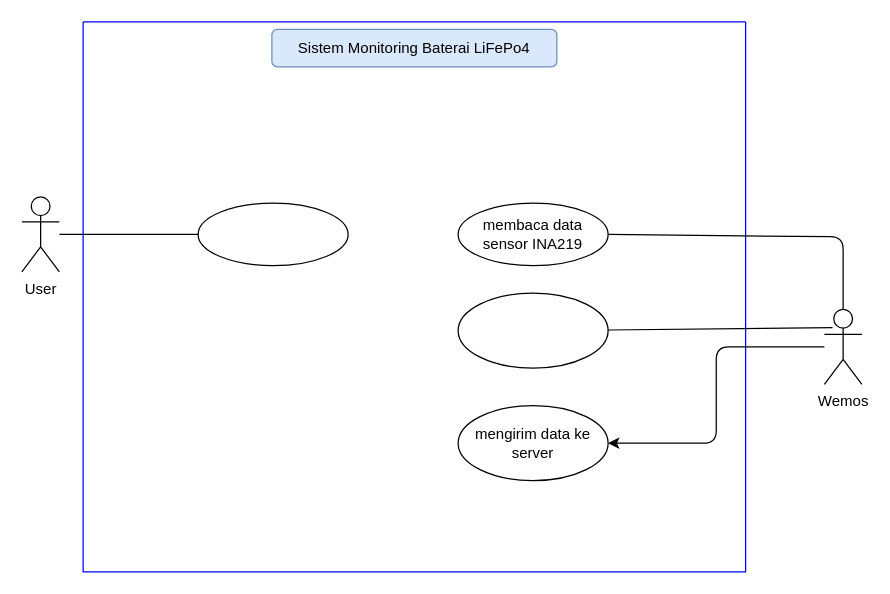
Image size: 890x594. Some labels were removed from this diagram. Each missing label, with the centre of its shape:
"akses halaman monitoring" belongs at [272,234].
"menghubungkan ke Access Point" belongs at [532,330].
